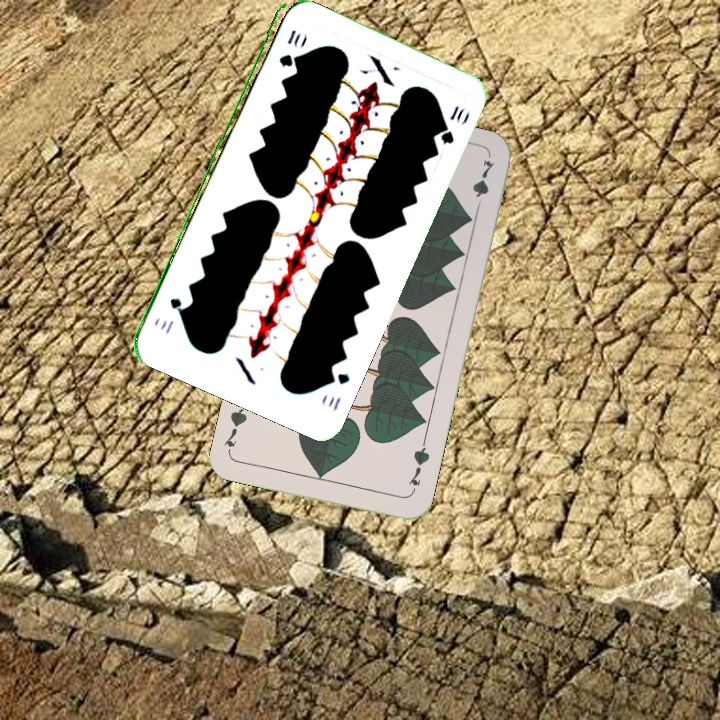G10: (322, 366, 353, 414), (274, 25, 304, 69)
G7: (404, 438, 433, 496)
